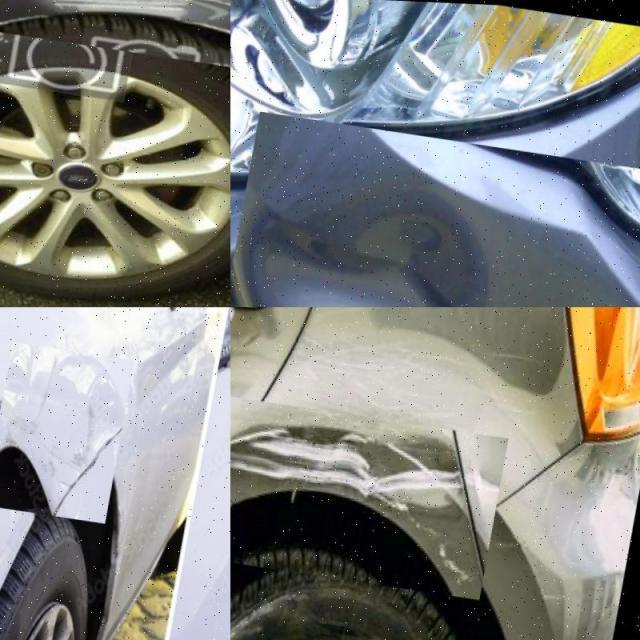car damage: (243, 185, 502, 310)
